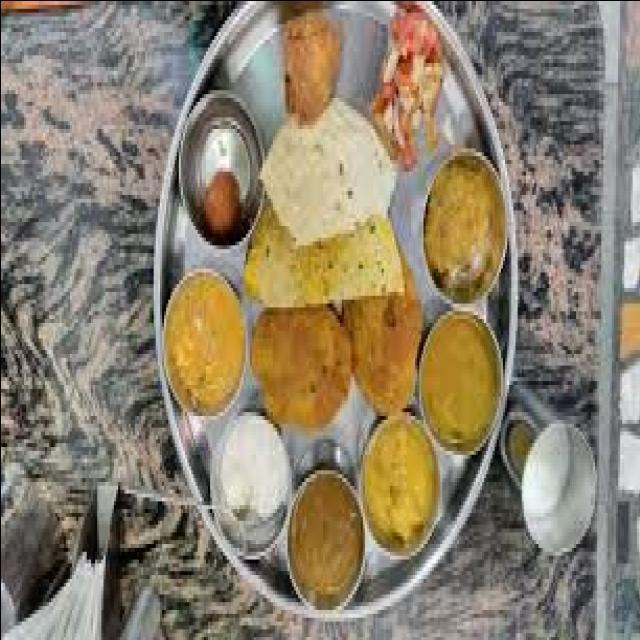dal: (157, 268, 247, 420), (418, 312, 504, 454), (285, 469, 366, 607), (364, 423, 442, 541)
papad: (256, 98, 394, 252), (242, 208, 400, 318)
raita: (209, 411, 293, 536)
sambar-rasam: (281, 461, 370, 613)
sweet: (175, 106, 263, 252)
